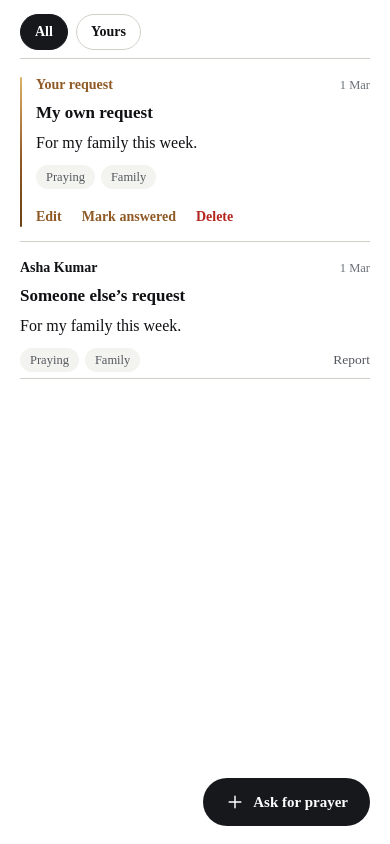
Scenario: All | Yours › shows only the member’s own under Yours
Check: the text "My own request" is shown, box left=36, top=103, right=153, bottom=122
What coordinates should you click on to do the following:
click the button with test id "prayer-wall-filter-yours"
I would click on:
 (108, 32)
Its box is left=76, top=14, right=141, bottom=50.
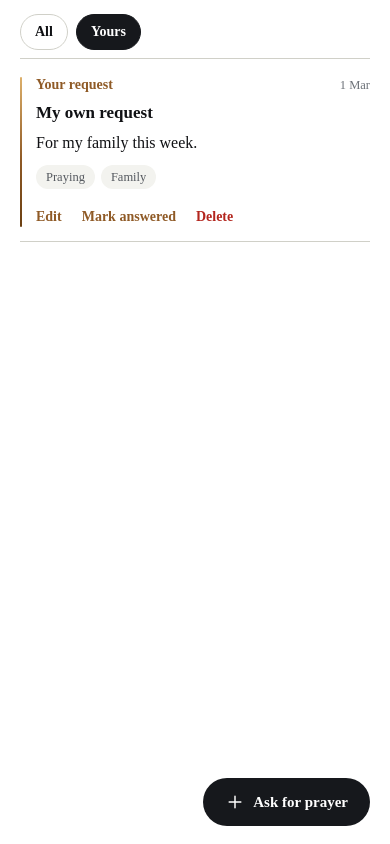
Check: the text "My own request" is shown, box left=36, top=103, right=153, bottom=122
Check: the text "Someone else’s request" is gone
